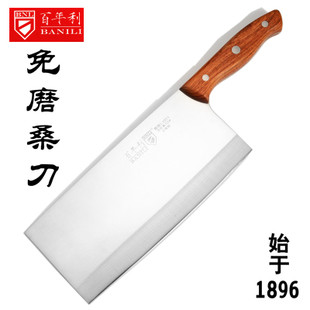knief: (80, 8, 279, 294)
